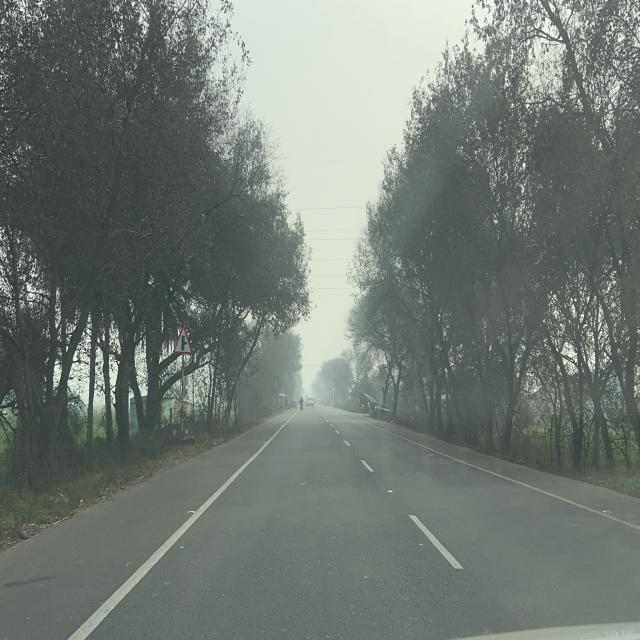SIDE_ROAD_RIGHT: (172, 324, 192, 356)
